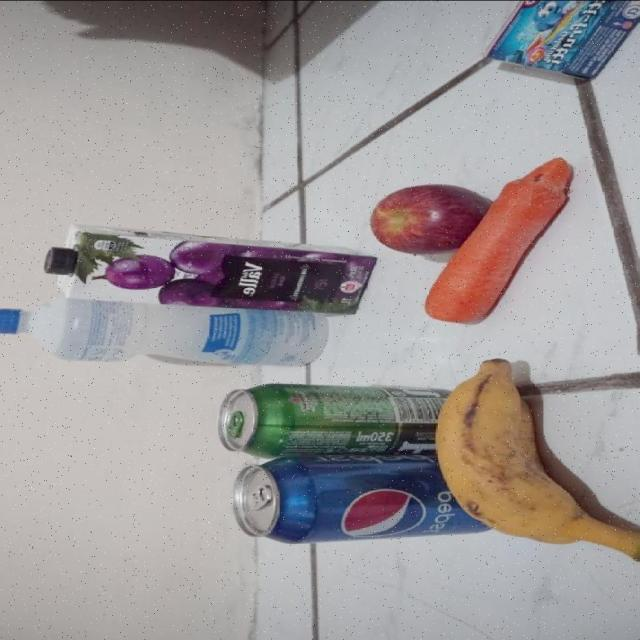AlcoholBottle: (0, 297, 331, 368)
Apple: (368, 183, 496, 255)
Banana: (435, 358, 640, 566)
BeerCan: (215, 381, 472, 459)
Carrot: (424, 157, 576, 323)
Gelatine: (481, 0, 640, 78)
SodaCan: (232, 457, 513, 544)
